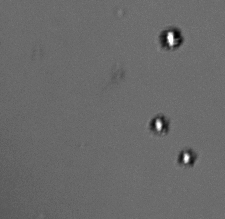Living Cell: (159, 27, 183, 50), (149, 113, 170, 135), (177, 148, 198, 167)
